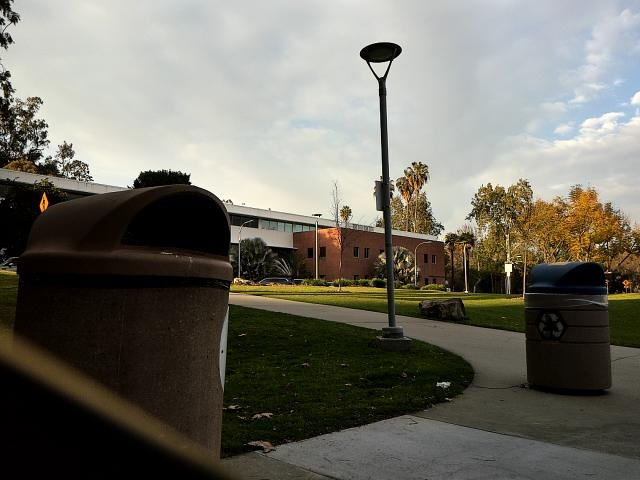trashcan: (17, 178, 247, 479), (517, 253, 633, 421)
